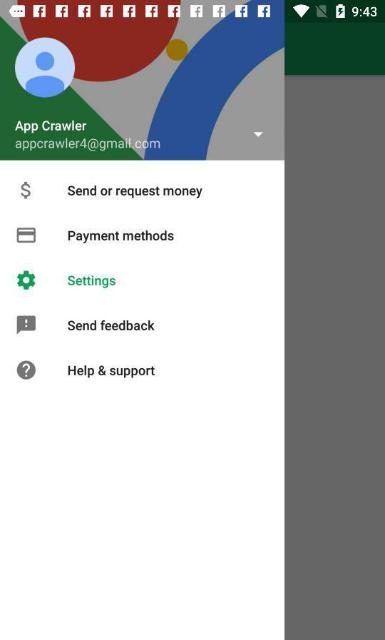Drawer: (0, 21, 284, 640)
Icon: (15, 36, 75, 98), (16, 360, 36, 380), (16, 270, 36, 290), (16, 316, 36, 334), (16, 227, 36, 243), (20, 182, 32, 200), (254, 132, 262, 136)
List: (0, 161, 284, 401)
Text: (14, 137, 160, 151), (68, 185, 202, 199), (68, 230, 174, 244), (67, 364, 155, 378), (67, 319, 155, 331), (15, 120, 87, 134), (68, 274, 116, 288)
UpperTaskBar: (0, 0, 384, 22)
